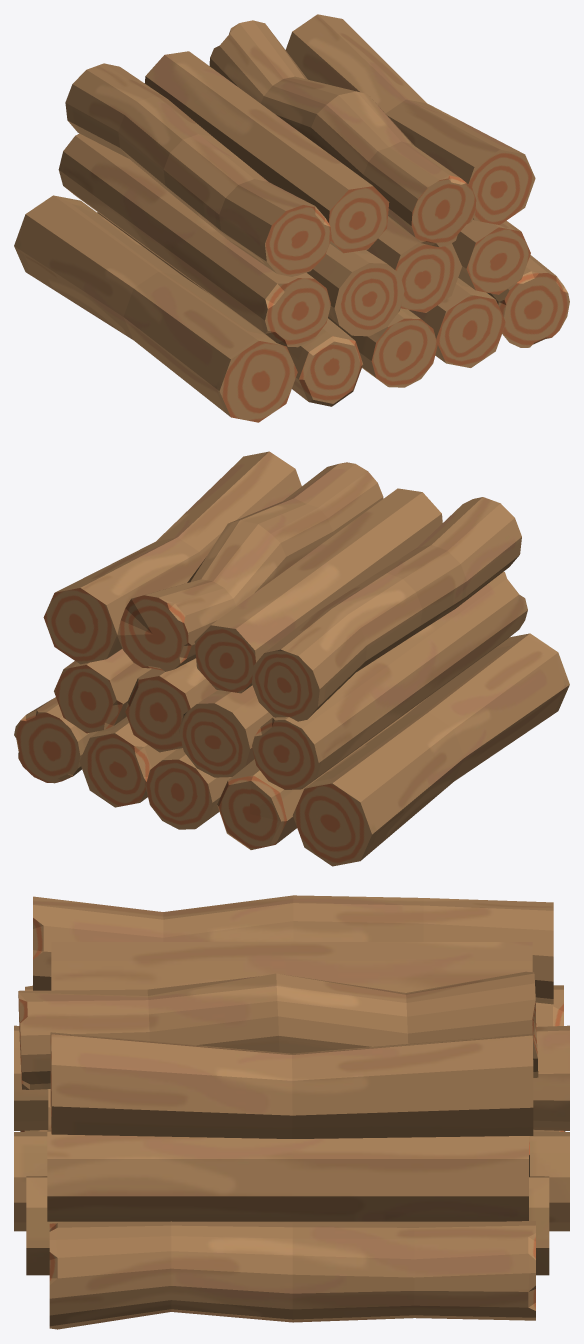
Rendered from ConjuntoMadeira.fbx.
3 renders of one model, top to bottom at view 1: azimuth 30°, elevation 25°; view 2: azimuth 150°, elevation 25°; view 3: azimuth 270°, elevation 25°, orthographic. The views are drawn at different scales.
Visible parts, largest first — view 1: ConjuntoMadeira; view 2: ConjuntoMadeira; view 3: ConjuntoMadeira.
Boxes of the visible parts, x1,y1,x2,y2 form: ConjuntoMadeira: (14,14,569,422); ConjuntoMadeira: (14,451,569,866); ConjuntoMadeira: (14,895,569,1329).
Size of the model in its own units: 103 by 58.84 by 104.
